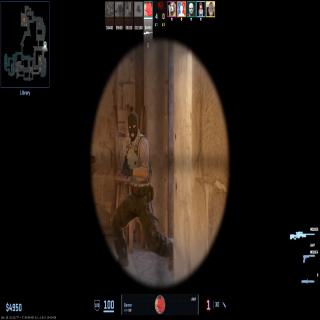T-Body: (117, 106, 166, 271)
T-Head: (127, 112, 139, 144)
